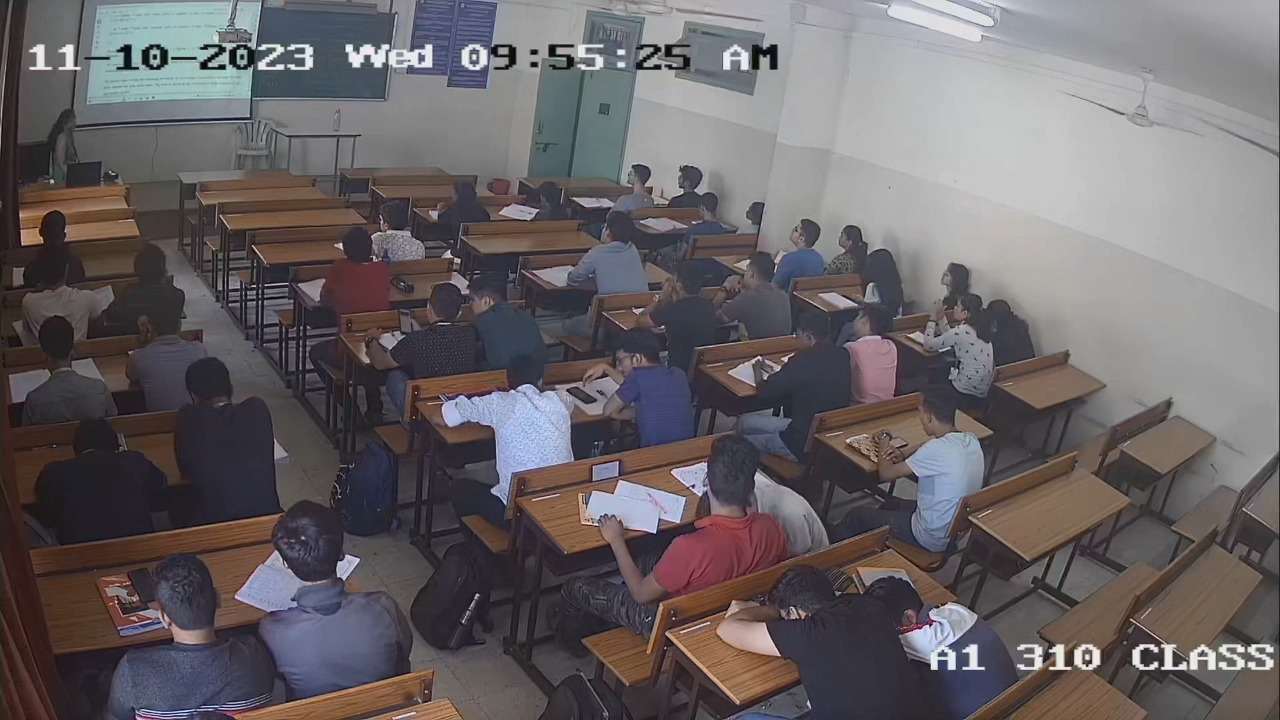cell-phones: (126, 566, 163, 605), (589, 458, 622, 486), (566, 386, 598, 405), (758, 357, 779, 376), (890, 435, 911, 449)
person: (103, 550, 279, 720), (648, 433, 787, 601), (602, 326, 698, 448), (768, 310, 851, 406), (913, 386, 987, 478)
